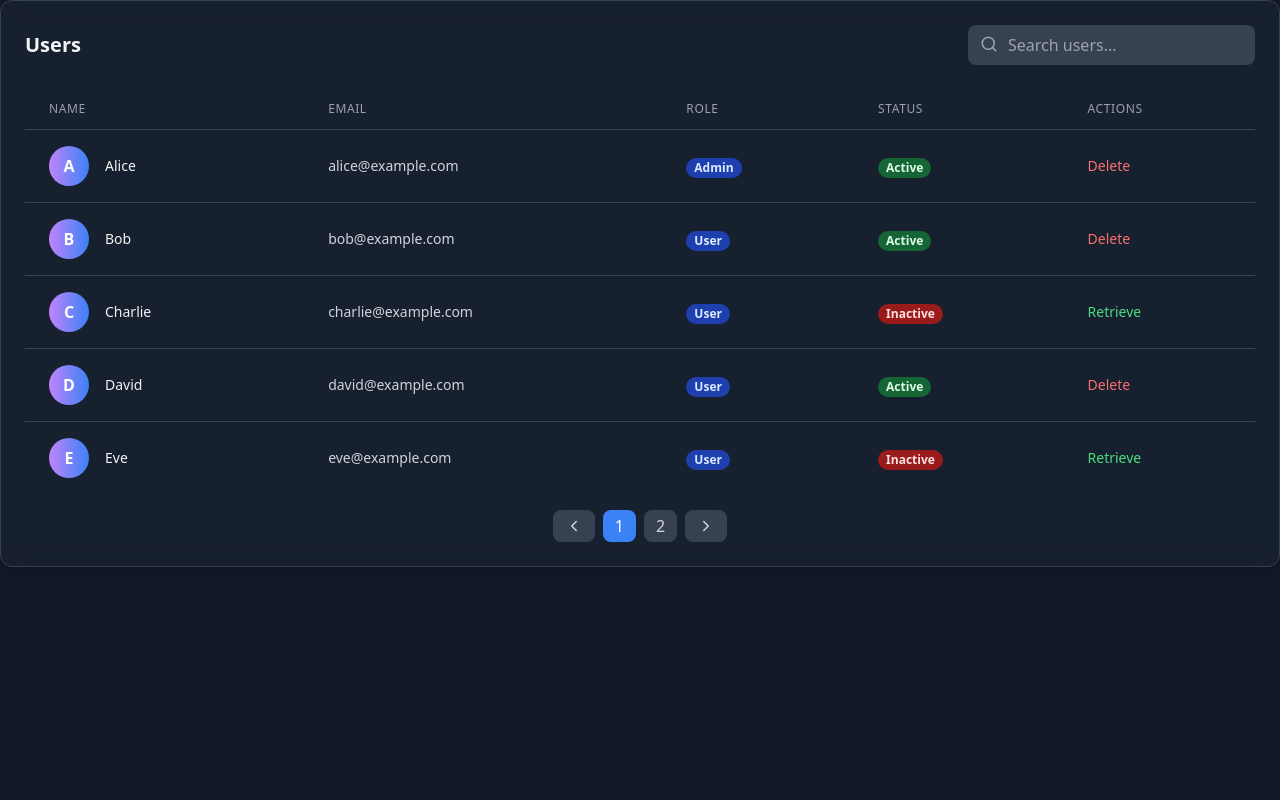
Test case: AdminAllUsersTable Component › handles pagination controls correctly
Expected: the text "Alice" is shown, [105, 156, 136, 176]
// Use the test id assigned to the next page button
Click the button with test id "next-page". click: click(706, 526)
box: [685, 510, 727, 542]
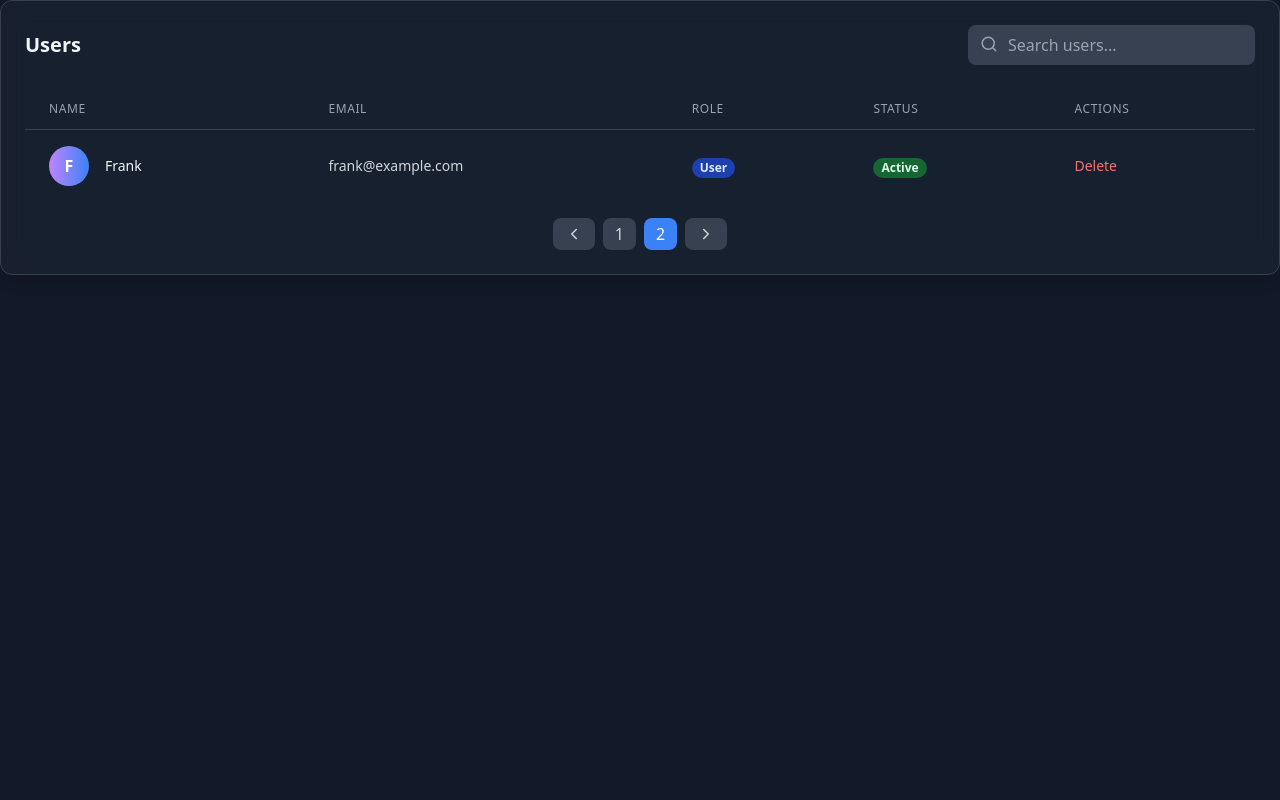
Result: the text "Frank" is shown at [105, 156, 142, 176]
Result: the text "Alice" is gone
